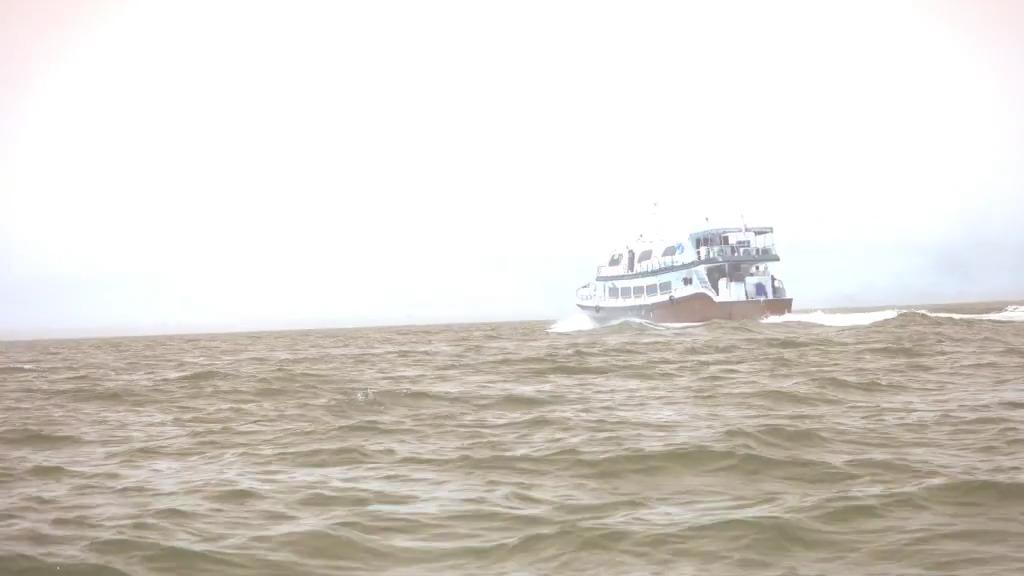PassengerShip: (561, 208, 805, 332)
